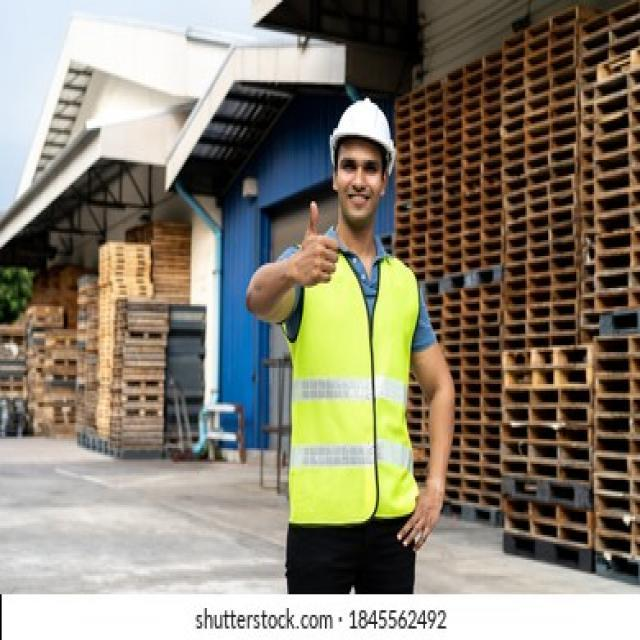reflective_jacket: (280, 230, 421, 530)
safety_helmet: (326, 91, 400, 159)
